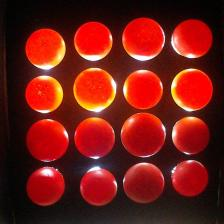fertile: (120, 112, 167, 158), (24, 118, 70, 163), (122, 162, 165, 205), (74, 116, 116, 160), (26, 166, 65, 206), (79, 167, 118, 207), (172, 116, 210, 155), (171, 159, 208, 197)
infertile: (73, 67, 117, 112), (122, 18, 165, 61), (172, 69, 213, 112), (25, 28, 66, 70), (123, 70, 163, 110), (171, 20, 213, 58), (74, 21, 113, 61), (25, 75, 63, 114)
